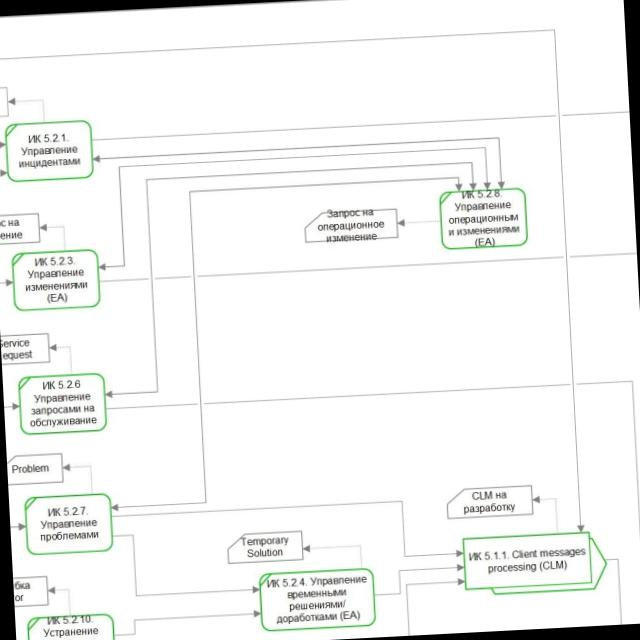arrow: (95, 175, 474, 399), (94, 161, 481, 269), (91, 131, 507, 210), (93, 134, 493, 212), (112, 526, 262, 605), (374, 563, 467, 600), (305, 542, 366, 571), (9, 92, 49, 124), (533, 496, 564, 534), (64, 460, 96, 495), (47, 341, 76, 375), (397, 213, 441, 230)
rectangle: (463, 531, 605, 597), (261, 568, 376, 634), (17, 371, 109, 436), (10, 247, 102, 311), (443, 184, 530, 251), (24, 492, 113, 555), (4, 120, 94, 181)
